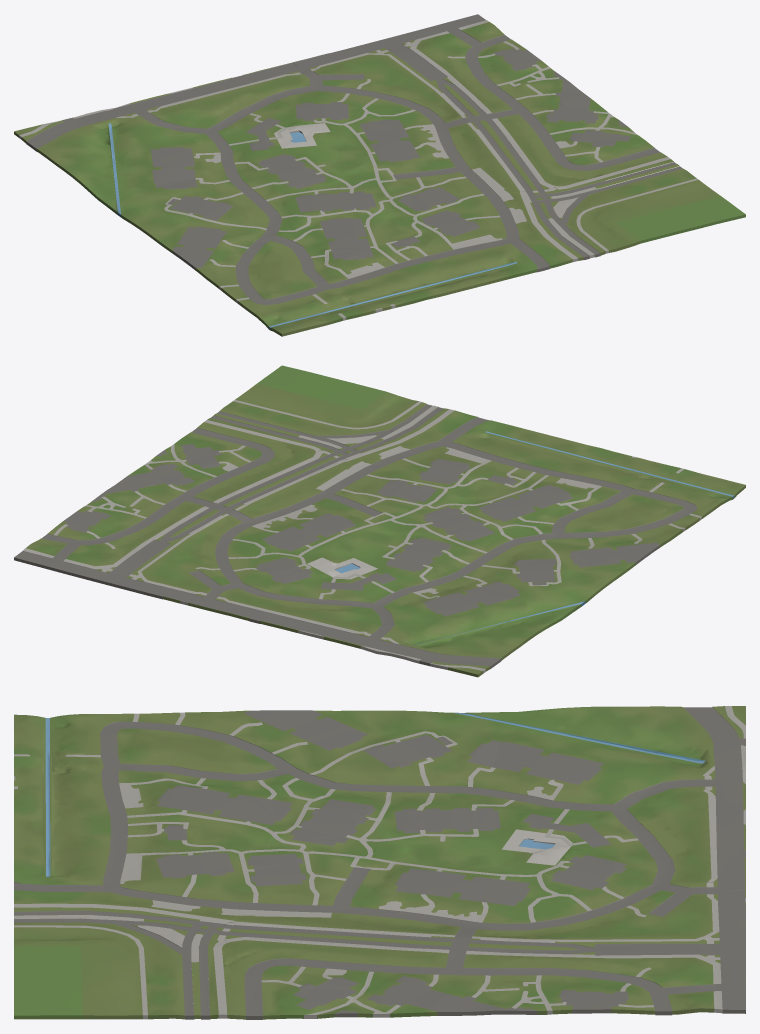
3 views of the same model, one above another, from view 1: azimuth 30°, elevation 25°; view 2: azimuth 150°, elevation 25°; view 3: azimuth 270°, elevation 25° (orthographic). The views are drawn at different scales.
Visible parts, largest first — view 1: T--2-1.L1:utd:matte, T--2-1.L1:utd:water; view 2: T--2-1.L1:utd:matte, T--2-1.L1:utd:water; view 3: T--2-1.L1:utd:matte, T--2-1.L1:utd:water.
Boxes of the visible parts, x1,y1,x2,y2 form: T--2-1.L1:utd:matte: (14,14,745,336); T--2-1.L1:utd:water: (108,123,516,327); T--2-1.L1:utd:matte: (14,365,745,677); T--2-1.L1:utd:water: (336,431,733,645); T--2-1.L1:utd:matte: (14,706,745,1019); T--2-1.L1:utd:water: (45,712,705,876).
Size of the model in its own units: 256 by 8.79 by 256.
